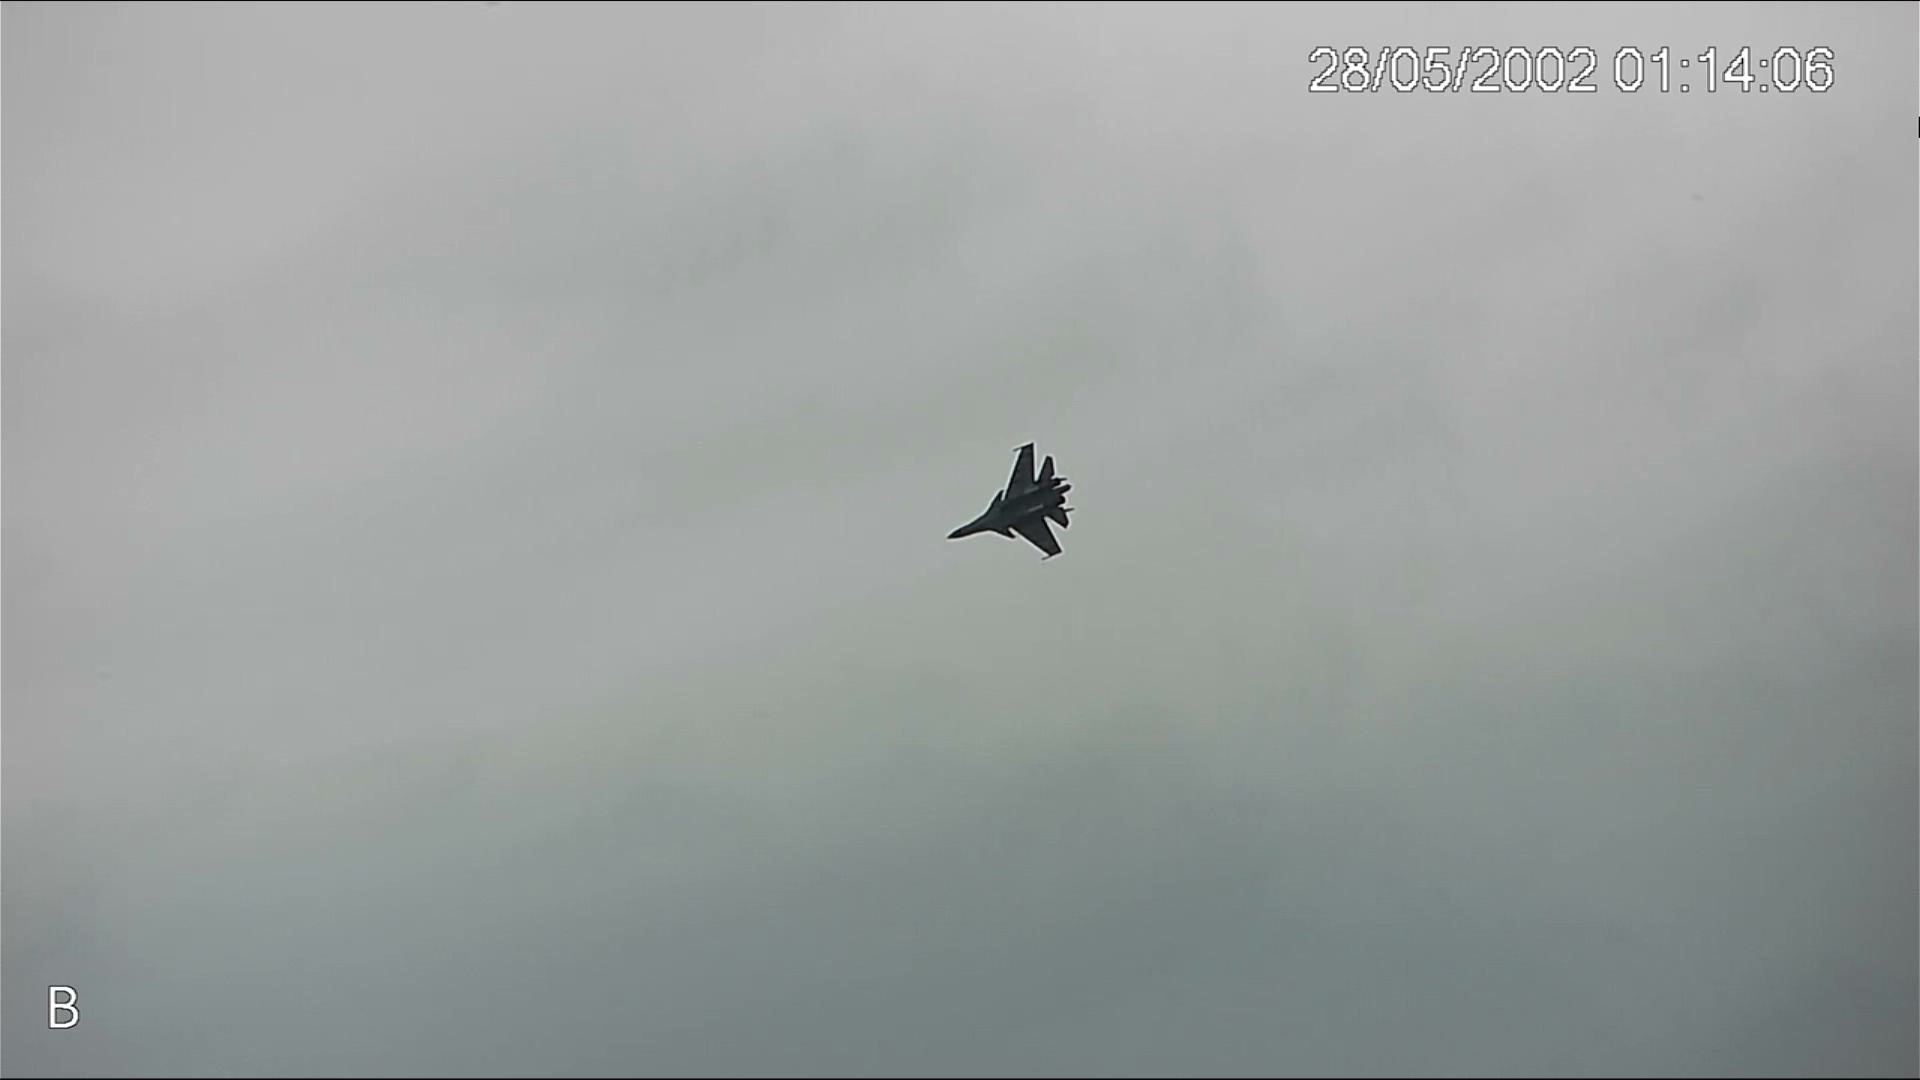SU_30: (945, 440, 1075, 564)
